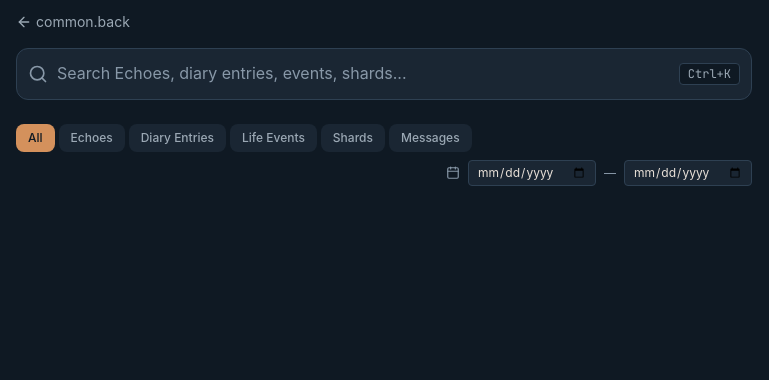
Test: SearchPage › shows "no results" after empty search
Step 1. Type "test query" into the search field → (384, 74), box [16,48,752,100]
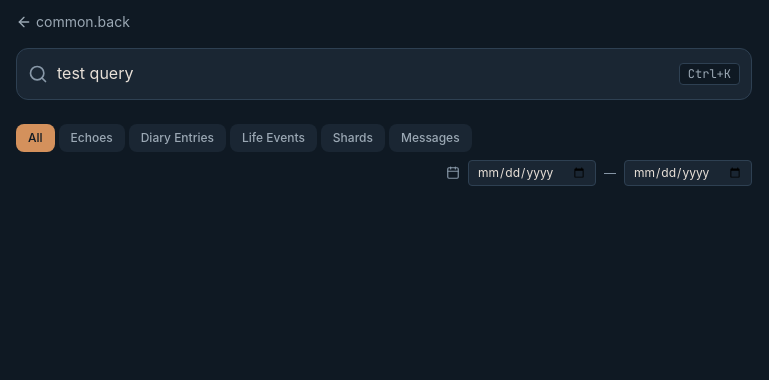
Step 2. Submit the form, box [16,48,752,100]
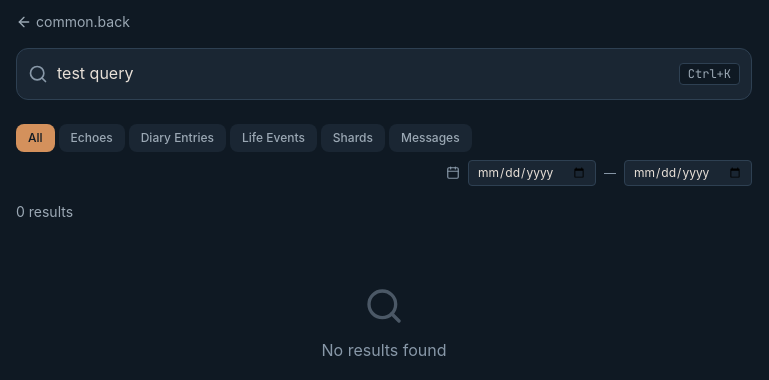
Expected: the text "No results found" is shown, [322,338,446,363]
